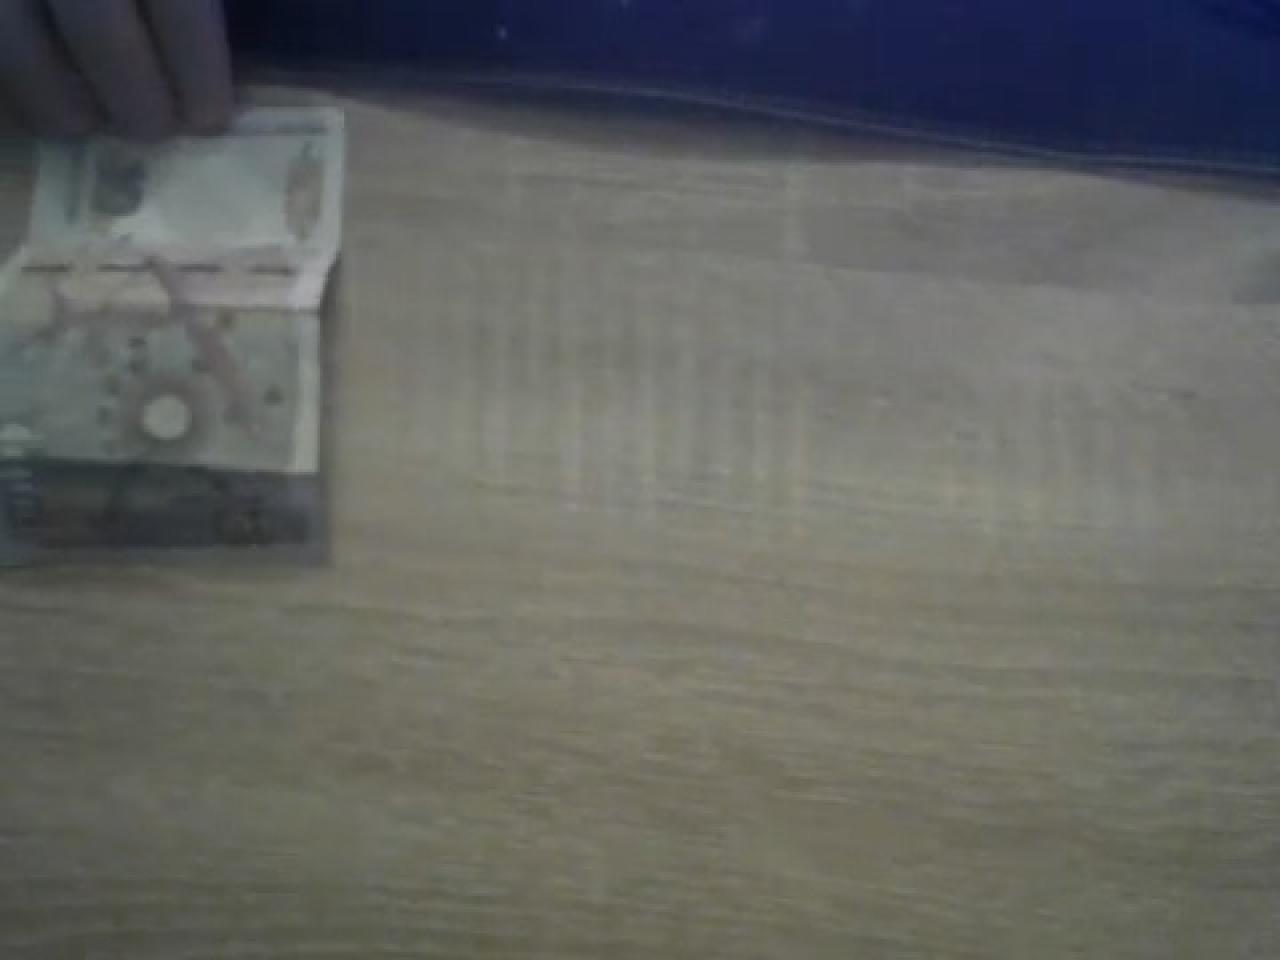10leva: (0, 101, 347, 547)
